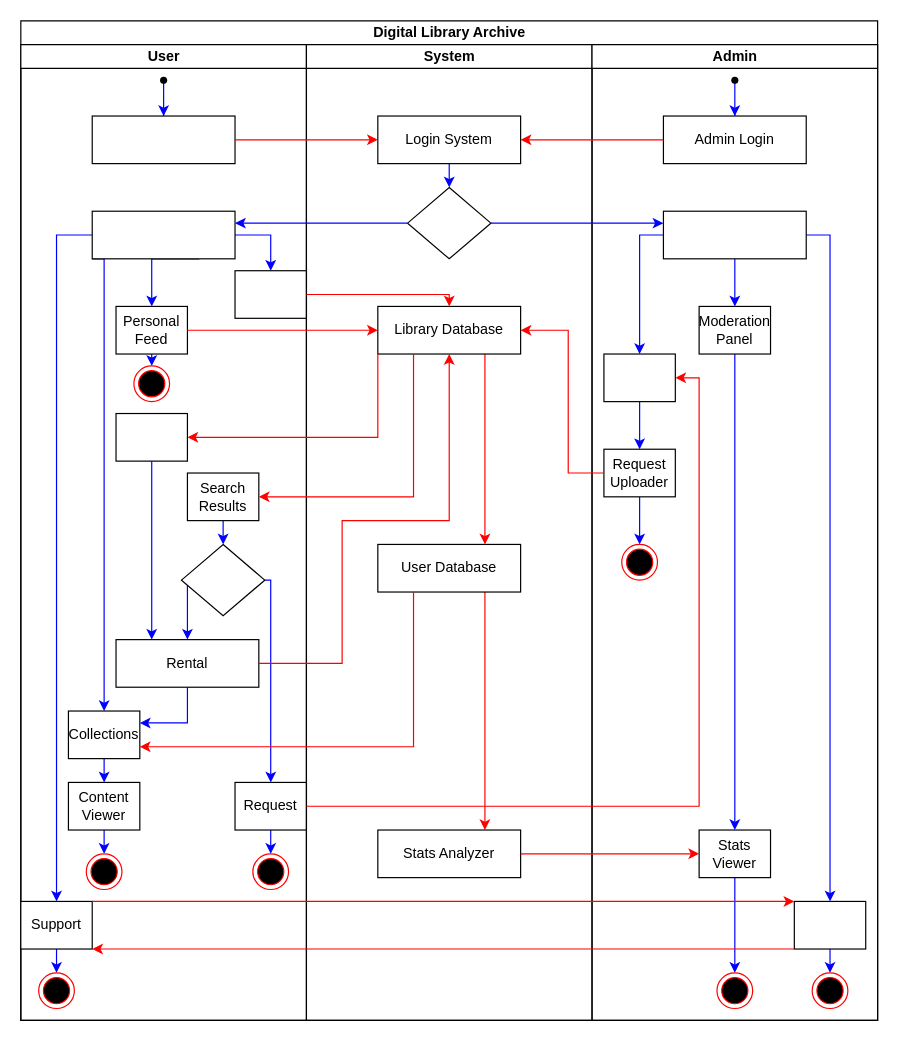
The diagram is 898 pixels wide and 1041 high, and some of its shapes have lost their labels. The shapes that lost their labels are listed below. From the top down, each one's centre as x and y in pixels, then its label:
At (163,139): "User Register/login".
At (163,234): "User Dashboard".
At (448,222): "User or admin".
At (734,234): "Admin Dashboard".
At (270,294): "Search Content".
At (639,377): "Request Panel".
At (151,436): "Notification".
At (222,579): "Did you find it?".
At (829,924): "Support Panel".
